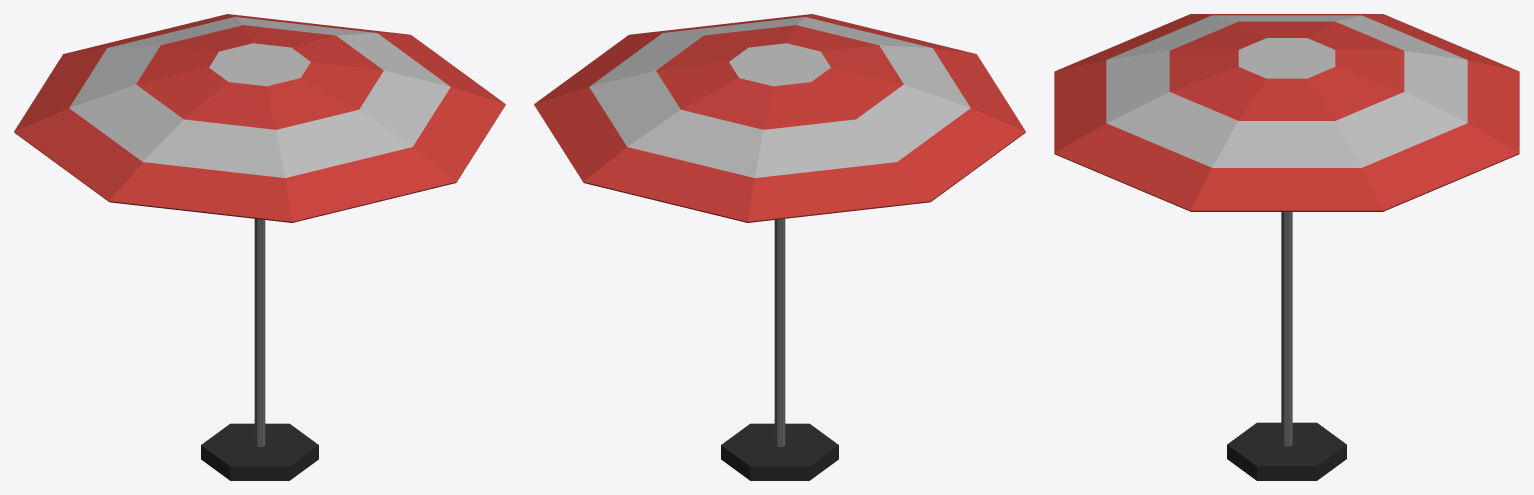
Rendered from Umbrella_06.fbx.
The picture shows the model from 3 angles, left to right: view 1: azimuth 30°, elevation 25°; view 2: azimuth 150°, elevation 25°; view 3: azimuth 270°, elevation 25°; orthographic projection.
Visible parts, largest first — view 1: Umbrella_06; view 2: Umbrella_06; view 3: Umbrella_06.
Boxes of the visible parts, x1=… form: Umbrella_06: x1=14, y1=14, x2=505, y2=480; Umbrella_06: x1=534, y1=14, x2=1025, y2=480; Umbrella_06: x1=1054, y1=14, x2=1519, y2=480.
Size of the model in its own units: 277 by 263 by 277.
